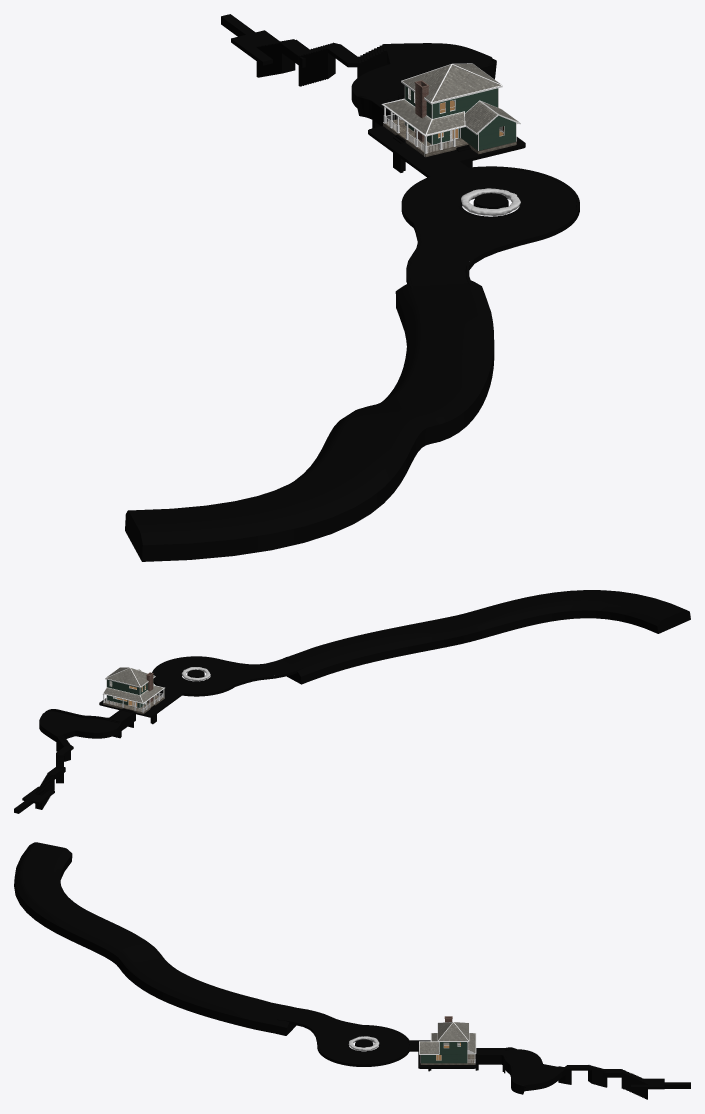
The model's file is house.dae.
3 views of the same model, one above another, from view 1: azimuth 30°, elevation 25°; view 2: azimuth 150°, elevation 25°; view 3: azimuth 270°, elevation 25° (orthographic). The views are drawn at different scales.
Visible parts, largest first — view 1: Asphalt, Concrete, Cobblestone, Roof, Siding, WhiteWood, Deck, Hedge; view 2: Asphalt, Concrete, Cobblestone, Roof, WhiteWood, Siding; view 3: Asphalt, Concrete, Cobblestone, Roof, Siding, WhiteWood.
Part boxes in pixels (x1=…): Asphalt: x1=125, y1=280, x2=494, y2=561; Concrete: x1=221, y1=14, x2=579, y2=289; Cobblestone: x1=404, y1=168, x2=576, y2=286; Roof: x1=384, y1=64, x2=518, y2=134; Siding: x1=405, y1=86, x2=515, y2=150; WhiteWood: x1=381, y1=63, x2=520, y2=153; Deck: x1=383, y1=119, x2=516, y2=157; Hedge: x1=461, y1=188, x2=520, y2=215; Asphalt: x1=283, y1=590, x2=690, y2=684; Concrete: x1=14, y1=656, x2=302, y2=813; Cobblestone: x1=153, y1=657, x2=299, y2=693; Roof: x1=103, y1=667, x2=163, y2=702; WhiteWood: x1=103, y1=667, x2=164, y2=712; Siding: x1=107, y1=679, x2=153, y2=707; Asphalt: x1=14, y1=842, x2=296, y2=1035; Concrete: x1=277, y1=1007, x2=690, y2=1099; Cobblestone: x1=285, y1=1008, x2=408, y2=1063; Roof: x1=419, y1=1022, x2=475, y2=1053; Siding: x1=421, y1=1042, x2=467, y2=1063; WhiteWood: x1=419, y1=1022, x2=476, y2=1063.
Bounding box in the file's own units: 10378 × 14128 × 1769.
